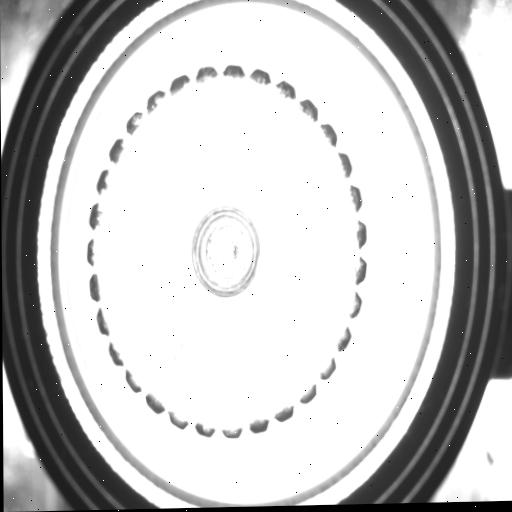gear: (84, 57, 371, 446)
